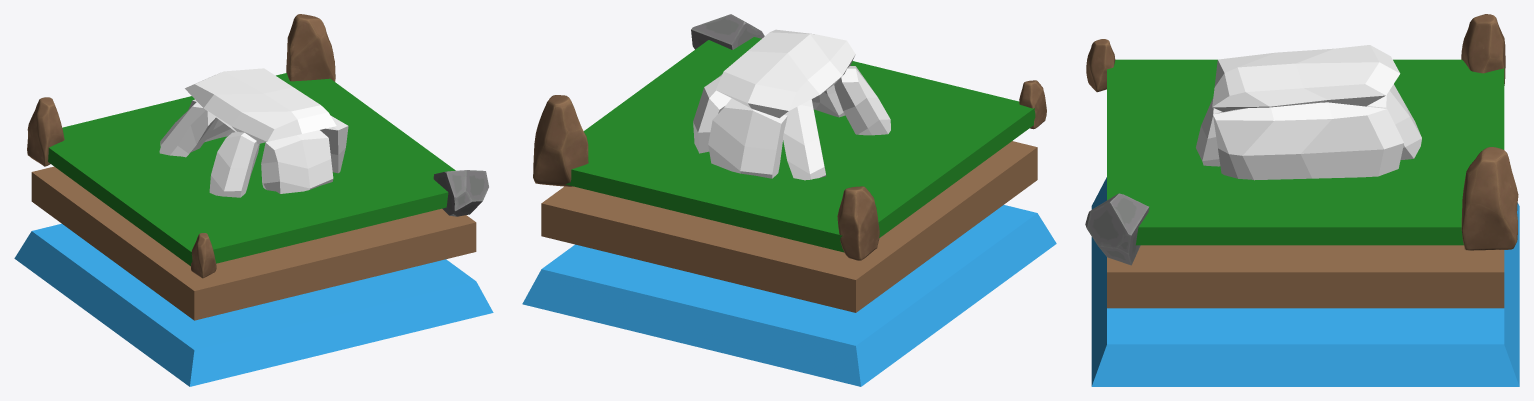
File: farside.gltf
3 renders of one model, left to right at view 1: azimuth 30°, elevation 25°; view 2: azimuth 150°, elevation 25°; view 3: azimuth 270°, elevation 25°, orthographic. The views are drawn at different scales.
Visible parts, largest first — view 1: Cube.001, Cube, Cube.002, Cave__0, Rock_lod0.002, node_id4, Rock_lod0, Rock_lod0.001; view 2: Cube.001, Cube, Cube.002, Cave__0, Rock_lod0.002, Rock_lod0, node_id4, Rock_lod0.001; view 3: Cube.001, Cube, Cave__0, Cube.002, Rock_lod0.002, node_id4, Rock_lod0, Rock_lod0.001.
Part boxes in pixels (left/top/right/bottom): Cube.001: left=48, top=73, right=455, bottom=266; Cube: left=14, top=223, right=493, bottom=386; Cube.002: left=31, top=166, right=476, bottom=320; Cave__0: left=159, top=68, right=348, bottom=197; Rock_lod0.002: left=286, top=14, right=335, bottom=81; node_id4: left=433, top=170, right=488, bottom=216; Rock_lod0: left=27, top=97, right=64, bottom=166; Rock_lod0.001: left=191, top=233, right=216, bottom=278; Cube.001: left=565, top=37, right=1035, bottom=252; Cube: left=522, top=205, right=1056, bottom=386; Cube.002: left=541, top=141, right=1037, bottom=312; Cave__0: left=693, top=29, right=890, bottom=180; Rock_lod0.002: left=533, top=95, right=588, bottom=186; Rock_lod0: left=837, top=186, right=879, bottom=260; node_id4: left=691, top=14, right=764, bottom=49; Rock_lod0.001: left=1019, top=80, right=1046, bottom=129; Cube.001: left=1107, top=59, right=1504, bottom=245; Cube: left=1091, top=177, right=1519, bottom=386; Cave__0: left=1196, top=45, right=1421, bottom=180; Cube.002: left=1107, top=245, right=1504, bottom=308; Rock_lod0.002: left=1461, top=147, right=1518, bottom=250; node_id4: left=1085, top=193, right=1149, bottom=265; Rock_lod0: left=1461, top=14, right=1505, bottom=85; Rock_lod0.001: left=1086, top=39, right=1115, bottom=92.
Bounding box in the file's own units: 22.11 × 13.13 × 21.87.
18 materials, 9 textured.
